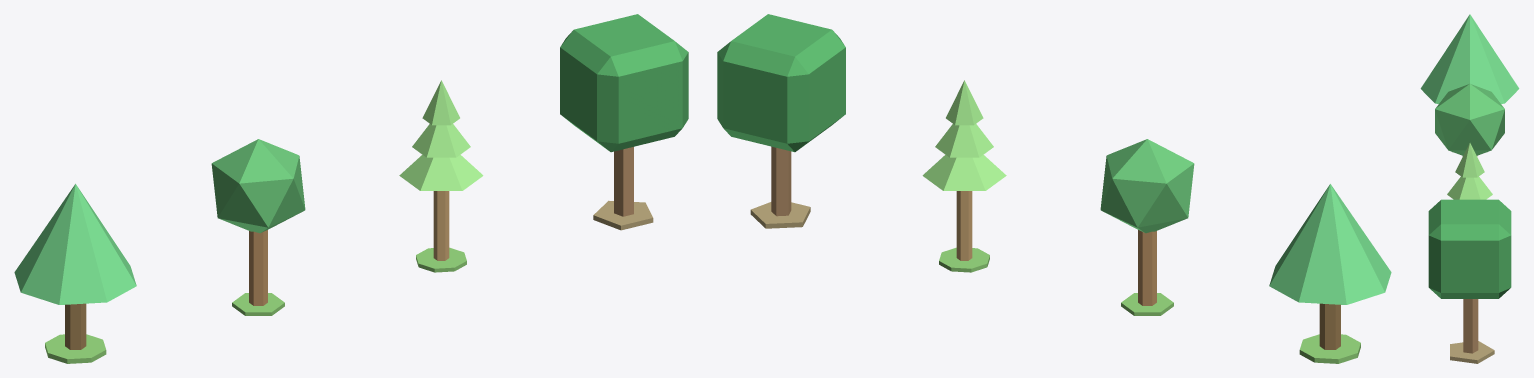
Rendered from Trees.fbx.
3 views of the same model, side by side, from view 1: azimuth 30°, elevation 25°; view 2: azimuth 150°, elevation 25°; view 3: azimuth 270°, elevation 25° (orthographic). The views are drawn at different scales.
Visible parts, largest first — view 1: Tree4_Foliage, Tree1_Foliage, Tree2_Foliage, Tree3_Layer_1, Tree3_Layer_2, Tree2_Trunk, Tree4_Trunk, Tree1_Base, Tree3_Trunk, Tree4_Base, Tree1_Trunk, Tree3_Layer_3 (+2 smaller); view 2: Tree4_Foliage, Tree1_Foliage, Tree2_Foliage, Tree3_Layer_1, Tree3_Layer_2, Tree2_Trunk, Tree4_Trunk, Tree1_Base, Tree3_Trunk, Tree4_Base, Tree1_Trunk, Tree3_Layer_3 (+2 smaller); view 3: Tree4_Foliage, Tree1_Foliage, Tree2_Foliage, Tree4_Trunk, Tree3_Layer_2, Tree4_Base, Tree3_Layer_3.
Boxes of the visible parts, <box> form: Tree4_Foliage: <box>560,14,688,152</box>; Tree1_Foliage: <box>14,184,136,304</box>; Tree2_Foliage: <box>211,139,305,233</box>; Tree3_Layer_1: <box>399,155,483,190</box>; Tree3_Layer_2: <box>412,124,470,157</box>; Tree2_Trunk: <box>249,230,267,305</box>; Tree4_Trunk: <box>614,147,633,216</box>; Tree1_Base: <box>45,334,106,363</box>; Tree3_Trunk: <box>433,191,449,260</box>; Tree4_Base: <box>593,200,653,230</box>; Tree1_Trunk: <box>65,303,86,349</box>; Tree3_Layer_3: <box>422,80,459,125</box>; Tree4_Foliage: <box>717,14,845,152</box>; Tree1_Foliage: <box>1269,184,1391,304</box>; Tree2_Foliage: <box>1100,139,1194,233</box>; Tree3_Layer_1: <box>922,155,1006,190</box>; Tree3_Layer_2: <box>935,124,993,157</box>; Tree2_Trunk: <box>1138,230,1156,305</box>; Tree4_Trunk: <box>771,146,791,216</box>; Tree1_Base: <box>1299,334,1360,363</box>; Tree3_Trunk: <box>956,191,972,260</box>; Tree4_Base: <box>750,202,810,228</box>; Tree1_Trunk: <box>1319,303,1340,349</box>; Tree3_Layer_3: <box>946,80,983,125</box>; Tree4_Foliage: <box>1428,199,1511,298</box>; Tree1_Foliage: <box>1420,14,1519,103</box>; Tree2_Foliage: <box>1435,84,1504,155</box>; Tree4_Trunk: <box>1463,299,1478,353</box>; Tree3_Layer_2: <box>1447,176,1492,199</box>; Tree4_Base: <box>1450,341,1494,363</box>; Tree3_Layer_3: <box>1455,143,1484,177</box>.
Bounding box in the file's own units: 1420 × 380 × 240.
